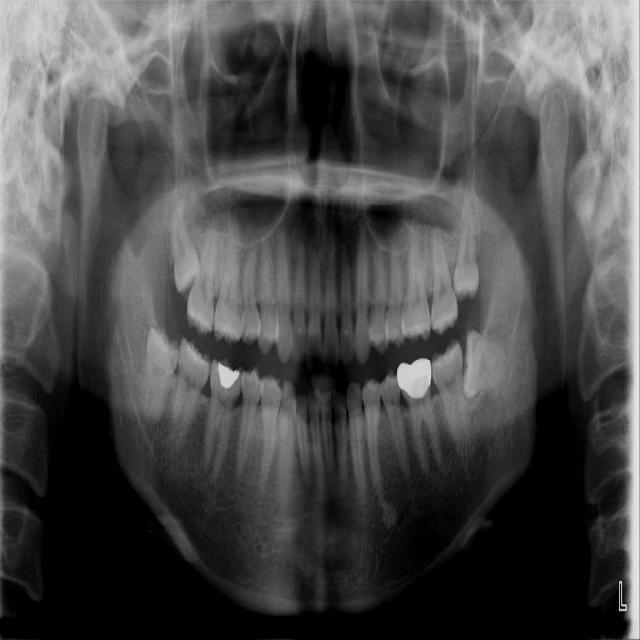Crown: (396, 359, 432, 405)
Filling: (214, 362, 241, 391)
impacted tooth: (142, 328, 179, 425), (462, 328, 511, 400), (451, 195, 480, 296), (172, 196, 200, 291)
